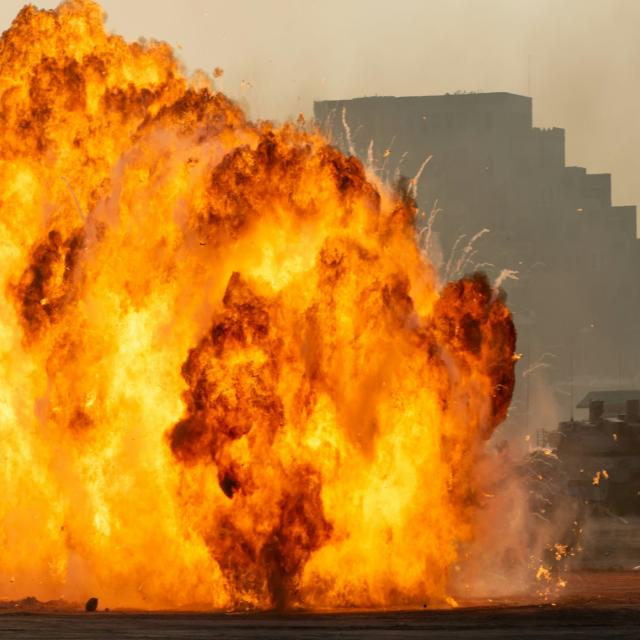explosion: (7, 0, 561, 640)
